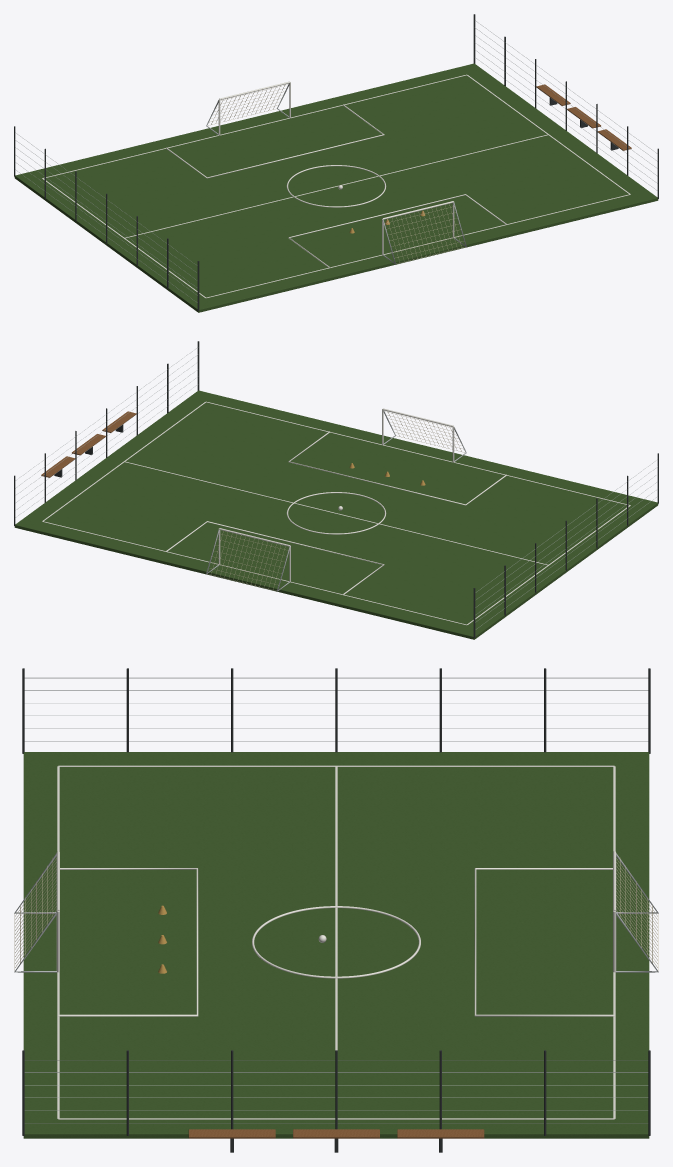
The model's file is lagos-football-field.glb.
3 renders of one model, top to bottom at view 1: azimuth 30°, elevation 25°; view 2: azimuth 150°, elevation 25°; view 3: azimuth 270°, elevation 25°, orthographic. The views are drawn at different scales.
Visible parts, largest first — view 1: Compact training pitch, Halfway line, Goal line, Goal line.001, Penalty area.001, Penalty area; view 2: Compact training pitch, Halfway line, Goal line, Goal line.001, Penalty area, Penalty area.001; view 3: Compact training pitch, Fence wire.005, Penalty area, Penalty area.001, Touch line, Touch line.001, Centre circle, Sideline bench, Sideline bench.002, Sideline bench.001, Halfway line, Goal line (+1 smaller).
Part boxes in pixels (x1,y1,x2,y2): Compact training pitch: (14,63,658,312); Halfway line: (124,134,548,238); Goal line: (206,194,630,298); Goal line.001: (42,74,466,178); Penalty area.001: (166,104,384,178); Penalty area: (288,194,506,267); Compact training pitch: (14,390,658,639); Halfway line: (124,461,548,565); Goal line: (206,401,630,505); Goal line.001: (42,521,466,625); Penalty area: (288,431,506,505); Penalty area.001: (166,521,384,594); Compact training pitch: (23,752,649,1138); Fence wire.005: (25,677,647,678); Penalty area: (58,868,198,1016); Penalty area.001: (474,868,614,1016); Touch line: (58,765,614,766); Touch line.001: (58,1118,614,1119); Centre circle: (252,906,420,978); Sideline bench: (188,1129,275,1138); Sideline bench.002: (397,1129,484,1138); Sideline bench.001: (293,1129,379,1138); Halfway line: (335,766,337,1050); Goal line: (57,766,59,1118).
Bounding box in the file's own units: 27.29 × 2.81 × 18.55.
7 materials, 2 textured.
